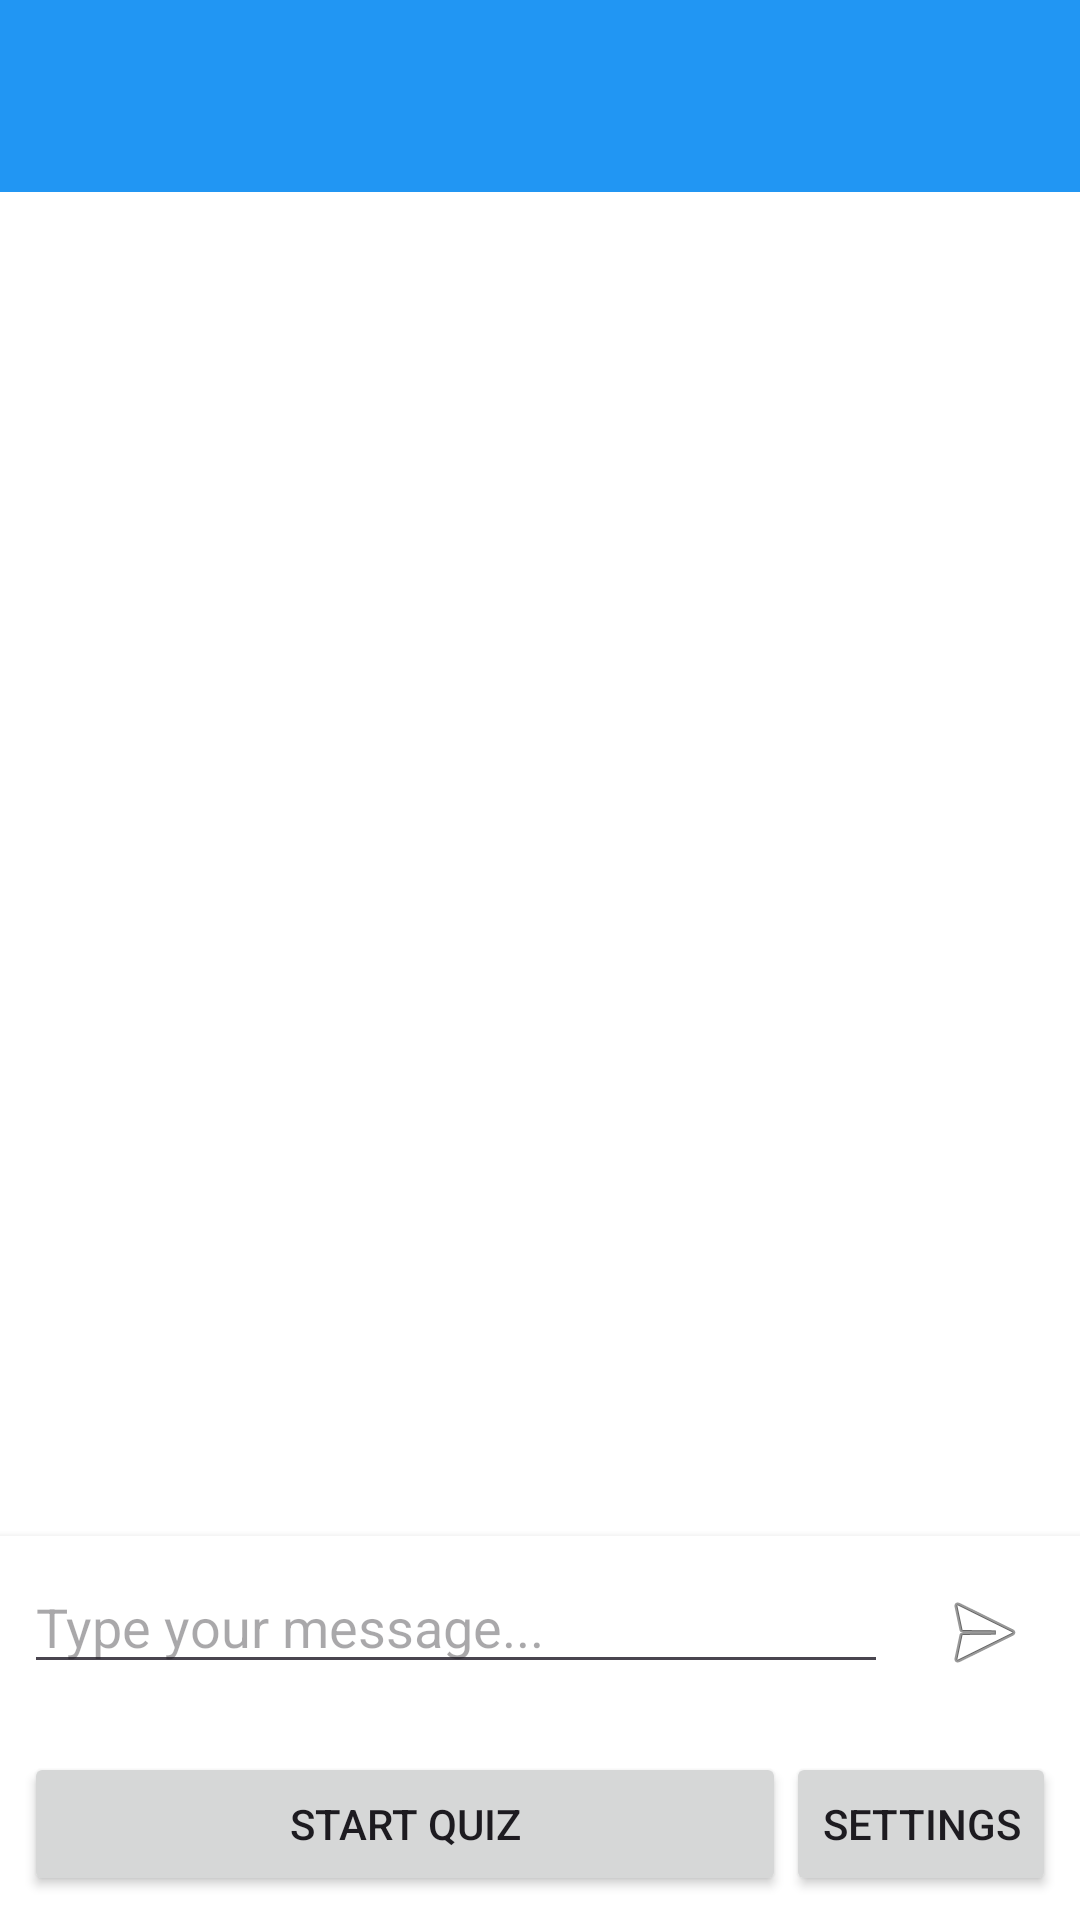

Locate icon controls on the screen. Image size 1080px x 1920px, boxes as (x1, y1, x2, y2).
Send message: (954, 1602, 1016, 1663)
